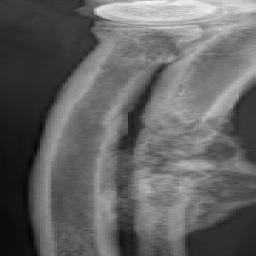cancer: (119, 122, 245, 254)
